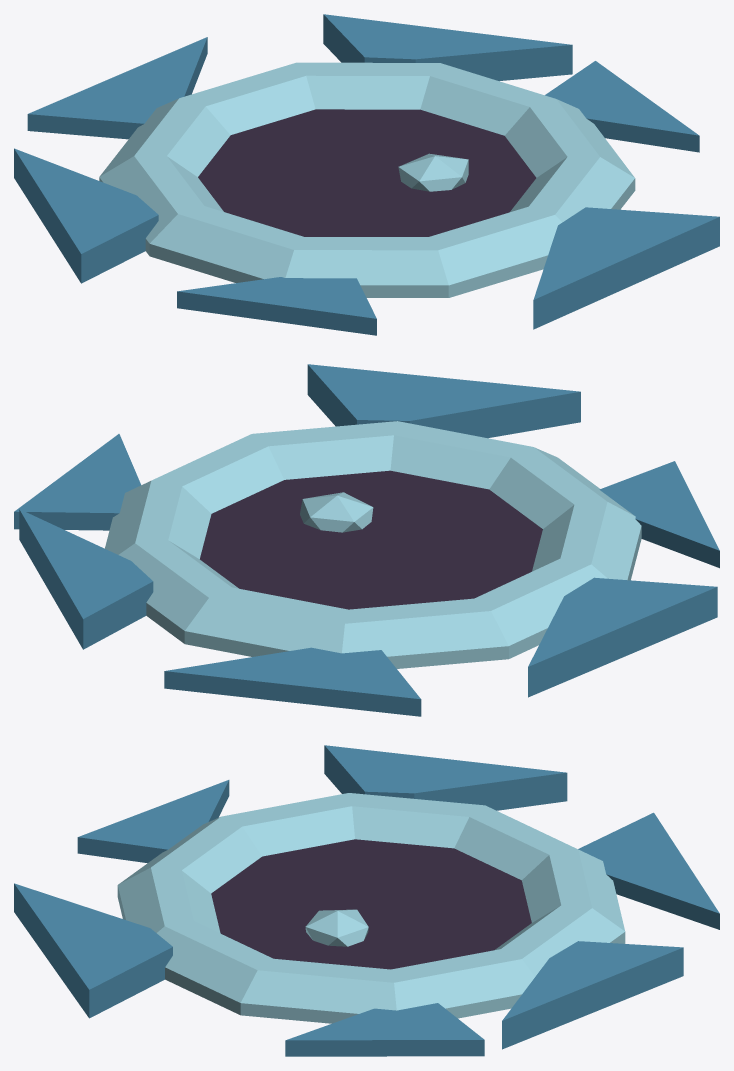
Rendered from crater-m-ocean.glb.
3 renders of one model, top to bottom at view 1: azimuth 30°, elevation 25°; view 2: azimuth 150°, elevation 25°; view 3: azimuth 270°, elevation 25°, orthographic. The views are drawn at different scales.
Parts seen in each view (by area): view 1: crater-m-ocean; view 2: crater-m-ocean; view 3: crater-m-ocean.
Boxes of the visible parts, <box> form: crater-m-ocean: <box>14,14,719,335</box>; crater-m-ocean: <box>14,364,719,716</box>; crater-m-ocean: <box>14,745,719,1056</box>.
Size of the model in its own units: 1.48 by 0.1032 by 1.56.
